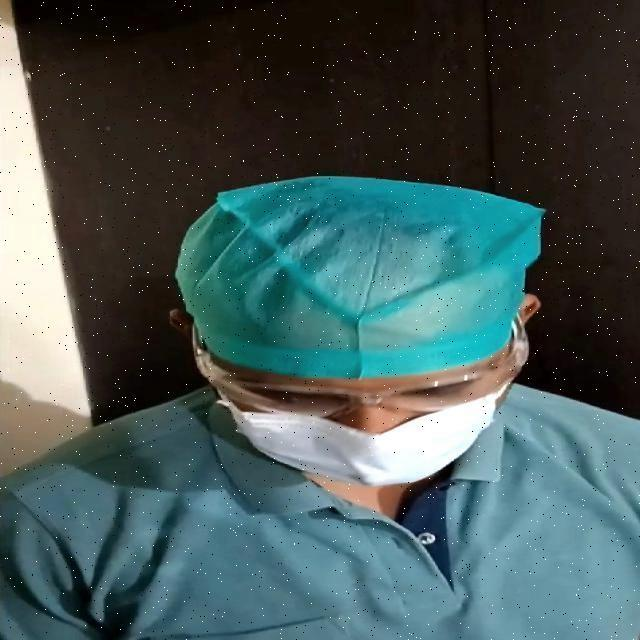gloves: (183, 173, 533, 377)
mask: (233, 376, 497, 495)
